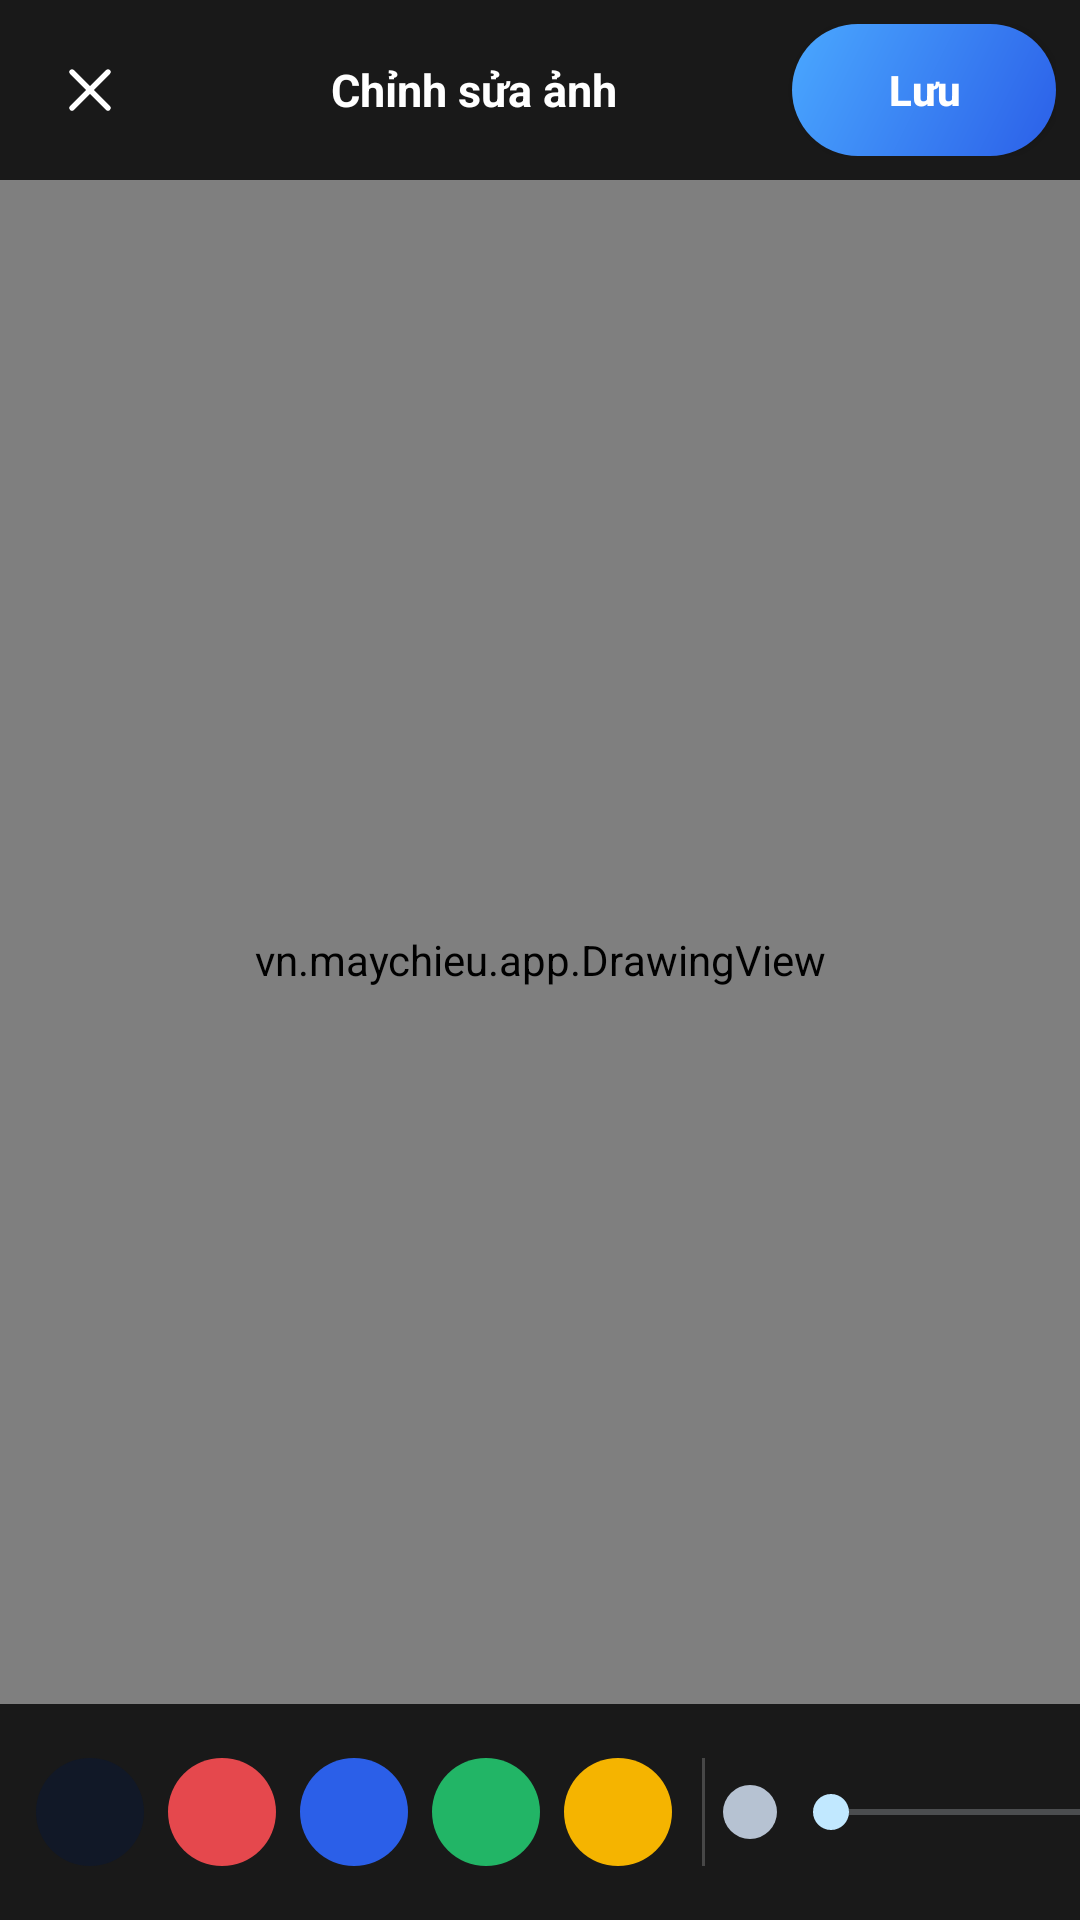

Screen size 1080 × 1920. Icon name, then its center in pixels as (x,y):
Đóng: (90,90)
